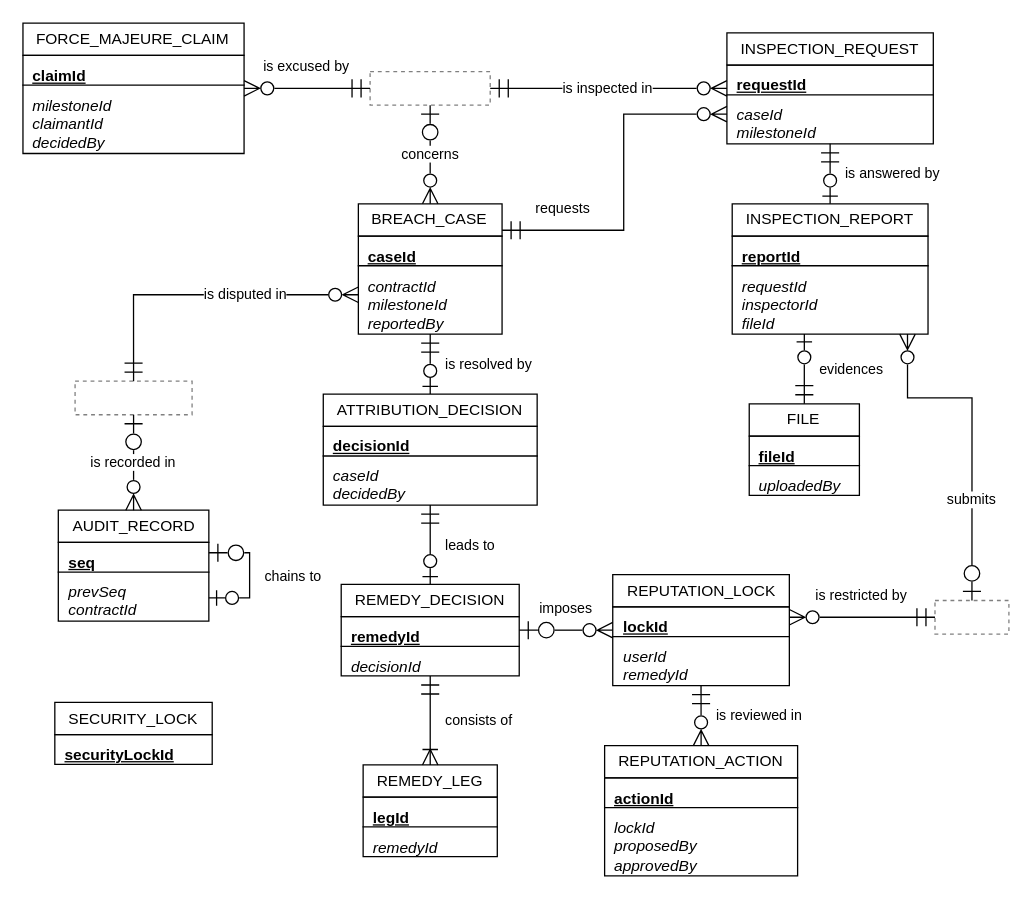
Image size: 1032x898. Some labels were removed from this diagram. The centre of each missing label's shape, as x and y in pixels:
"CONTRACT" goes at point 133,397.
"MILESTONE" goes at point 429,87.
"USER" goes at point 971,616.
